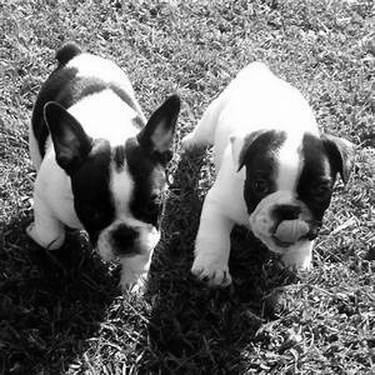dog: (1, 22, 187, 301), (170, 47, 364, 300)
